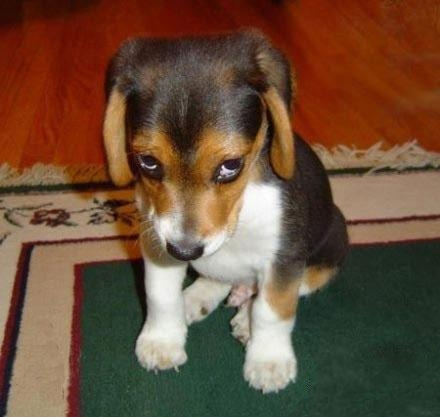dog: (104, 38, 300, 269)
